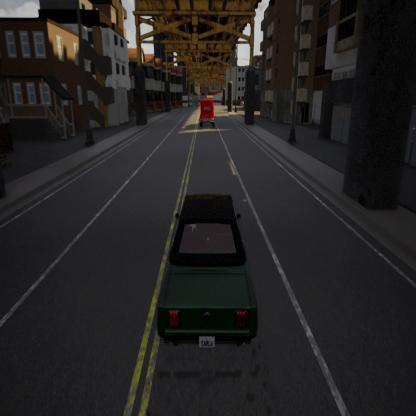Cars: (156, 182, 267, 364), (196, 97, 218, 131)
